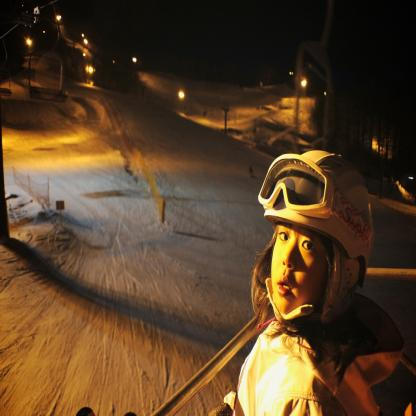Helmet: (252, 152, 373, 348)
